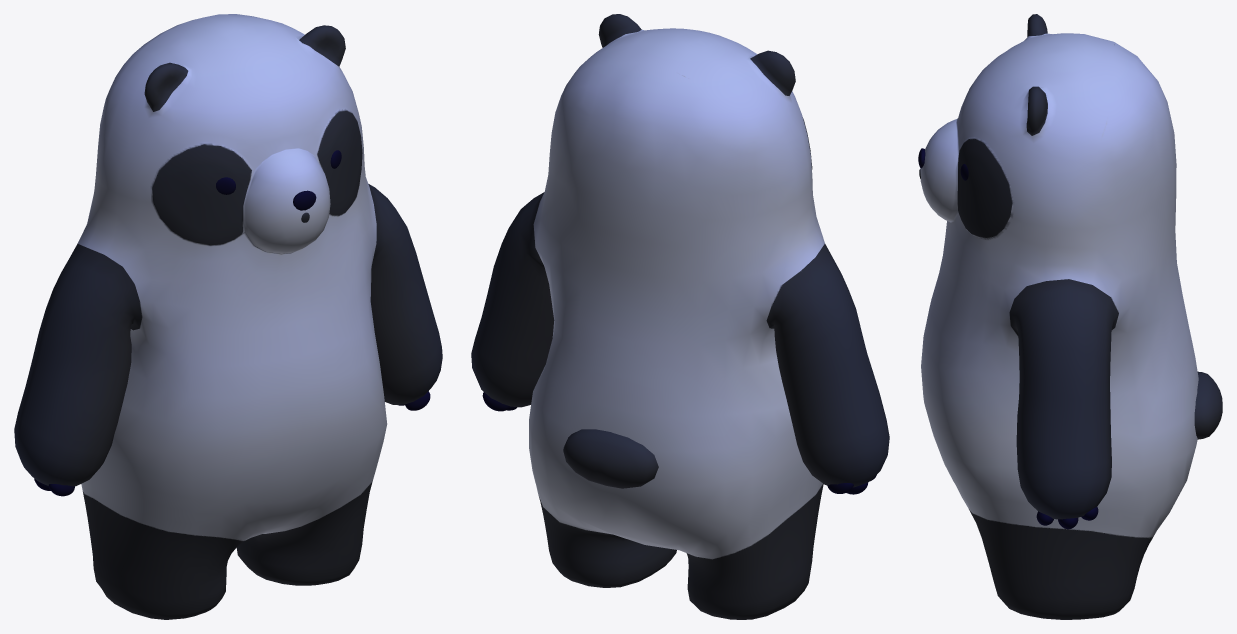
Rendered from Panda.fbx.
3 renders of one model, left to right at view 1: azimuth 30°, elevation 25°; view 2: azimuth 150°, elevation 25°; view 3: azimuth 270°, elevation 25°, orthographic. The views are drawn at different scales.
Parts seen in each view (by area): view 1: Panda; view 2: Panda; view 3: Panda.
Part boxes in pixels (<box>): Panda: <box>14,14,442,619</box>; Panda: <box>471,14,889,619</box>; Panda: <box>918,14,1222,619</box>.
Size of the model in its own units: 3.18 by 4.07 by 2.13.
2 materials, 2 textured.
